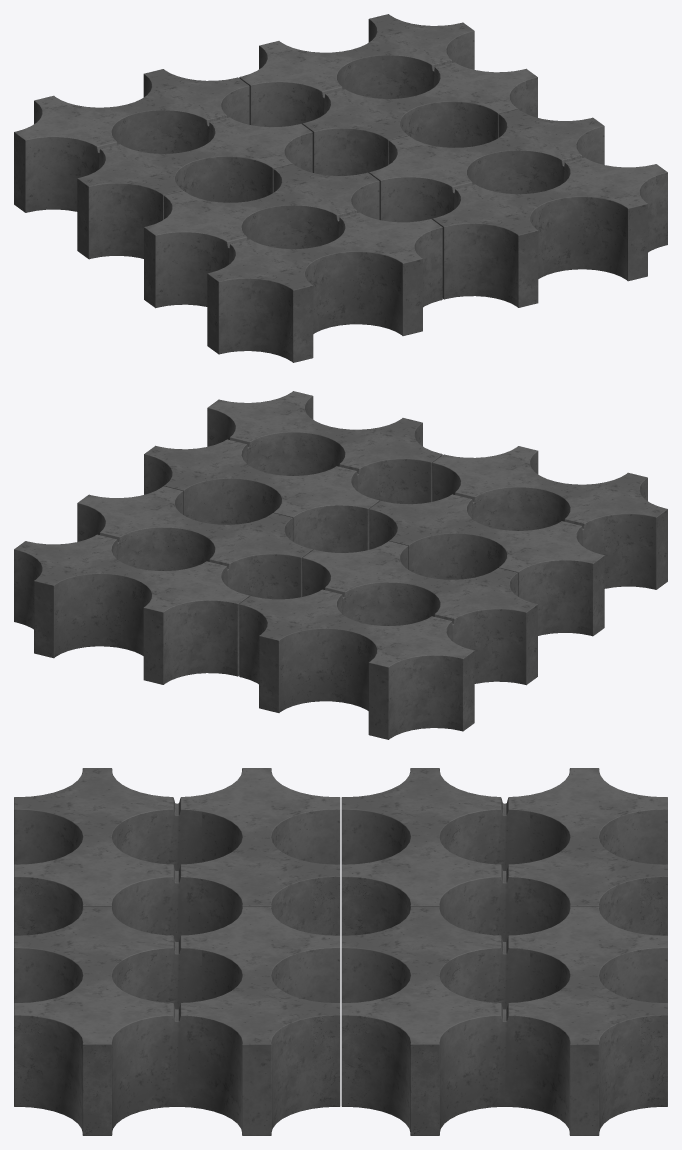
3 renders of one model, top to bottom at view 1: azimuth 30°, elevation 25°; view 2: azimuth 150°, elevation 25°; view 3: azimuth 270°, elevation 25°, orthographic. The views are drawn at different scales.
Visible parts, largest first — view 1: Grasscrete.001, Grasscrete, Grasscrete.003, Grasscrete.002; view 2: Grasscrete.003, Grasscrete.002, Grasscrete.001, Grasscrete; view 3: Grasscrete, Grasscrete.002, Grasscrete.001, Grasscrete.003.
Part boxes in pixels (left/top/right/bottom): Grasscrete.001: left=144, top=164, right=442, bottom=362; Grasscrete: left=369, top=109, right=667, bottom=307; Grasscrete.003: left=14, top=69, right=312, bottom=259; Grasscrete.002: left=239, top=14, right=537, bottom=175; Grasscrete.003: left=239, top=541, right=537, bottom=739; Grasscrete.002: left=14, top=486, right=312, bottom=684; Grasscrete.001: left=369, top=446, right=667, bottom=636; Grasscrete: left=144, top=391, right=442, bottom=552; Grasscrete: left=14, top=906, right=340, bottom=1135; Grasscrete.002: left=341, top=906, right=667, bottom=1135; Grasscrete.001: left=14, top=768, right=340, bottom=941; Grasscrete.003: left=341, top=768, right=667, bottom=941.
Bounding box in the file's own units: 0.5728 × 0.0889 × 0.5728.
1 material, 1 textured.
